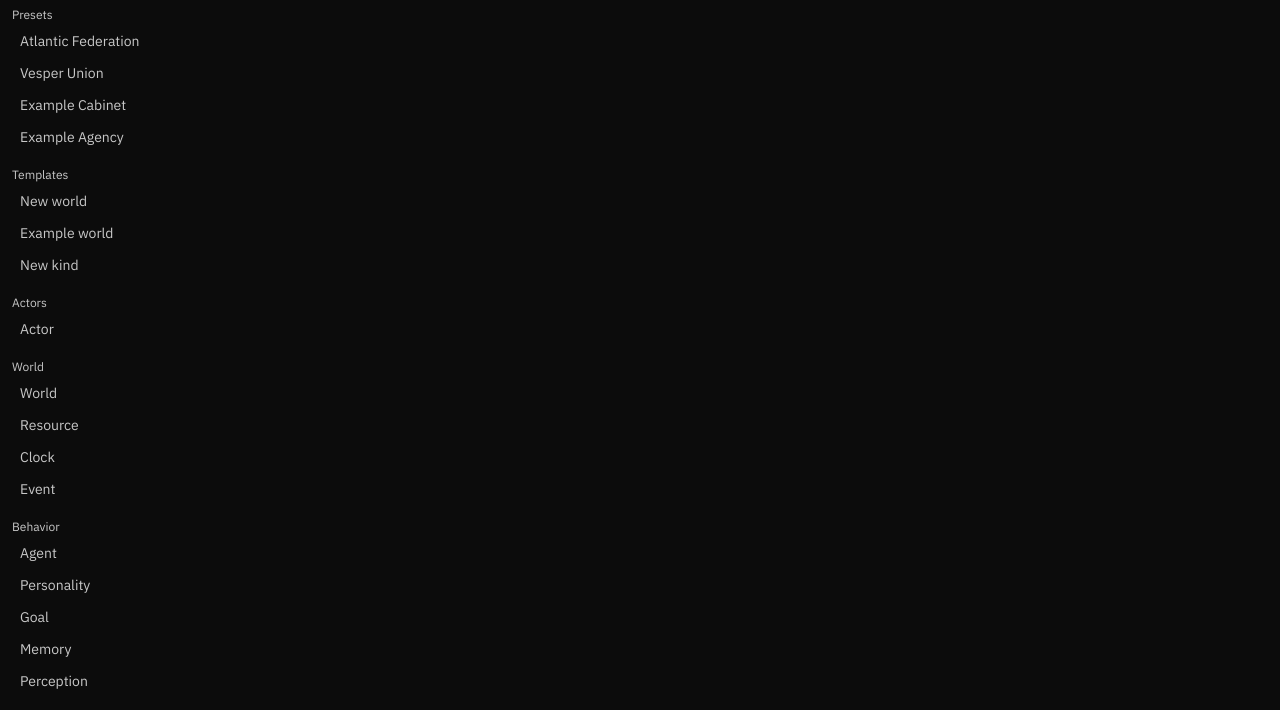
Test: Kind author form › lists custom.radio-desk under Systems after save
Click the button "New kind" at (49,265), box [12,251,1268,279]
(page scrolled)
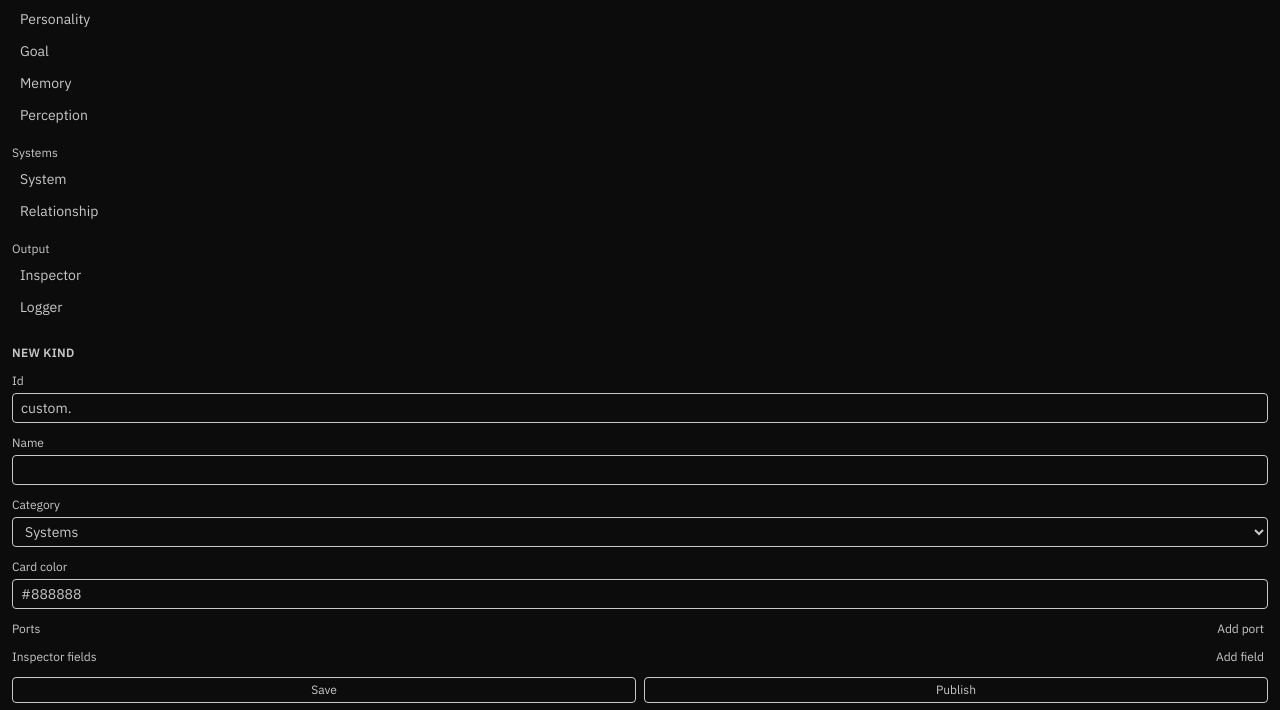
Replace the text in the field labelled "Id" with "custom.radio-desk" at (640,408), box [12,393,1268,423]
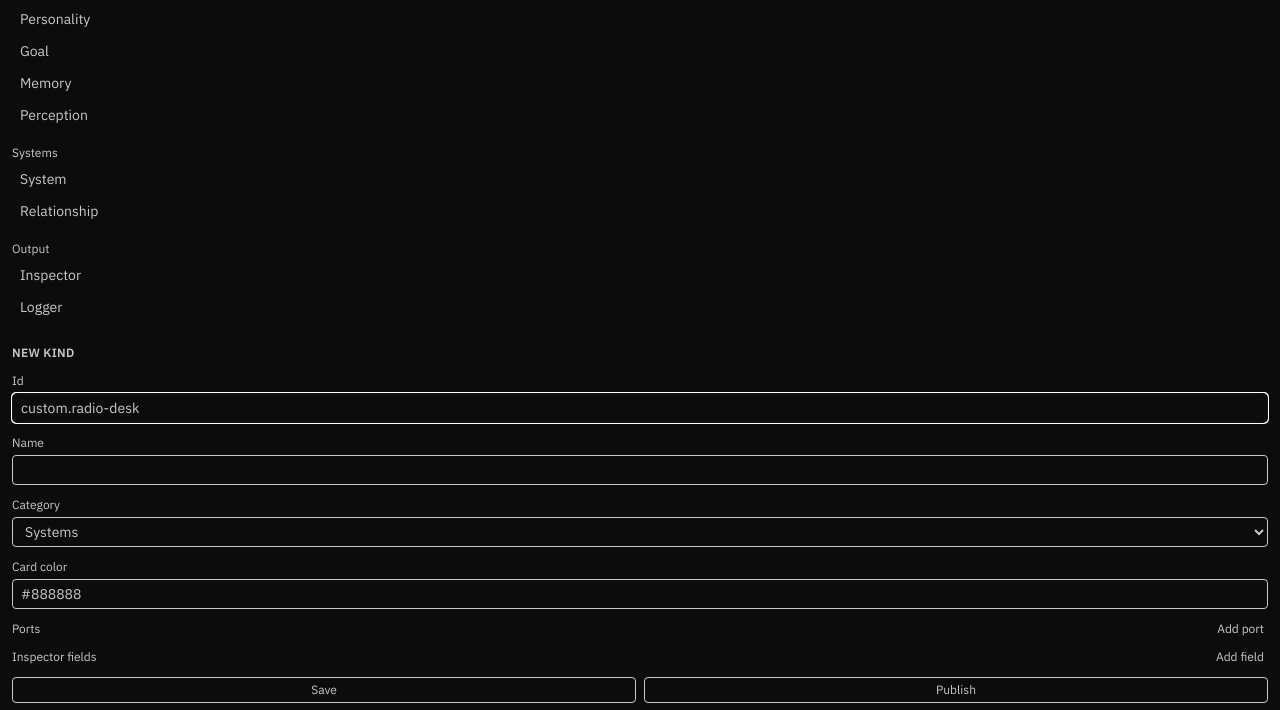
Type "Radio desk" into the field labelled "Name" at (640,470), box [12,455,1268,485]
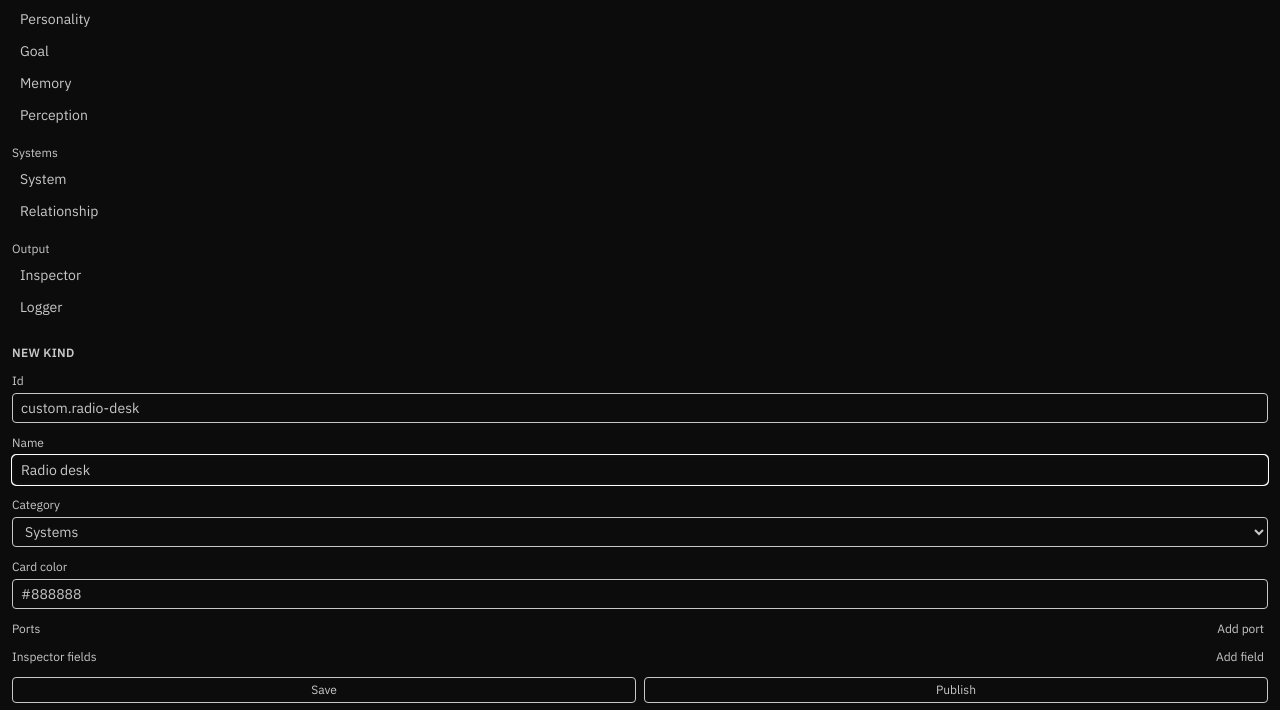
Select "Systems" in the dropdown labelled "Category" at (640,532), box [12,517,1268,547]
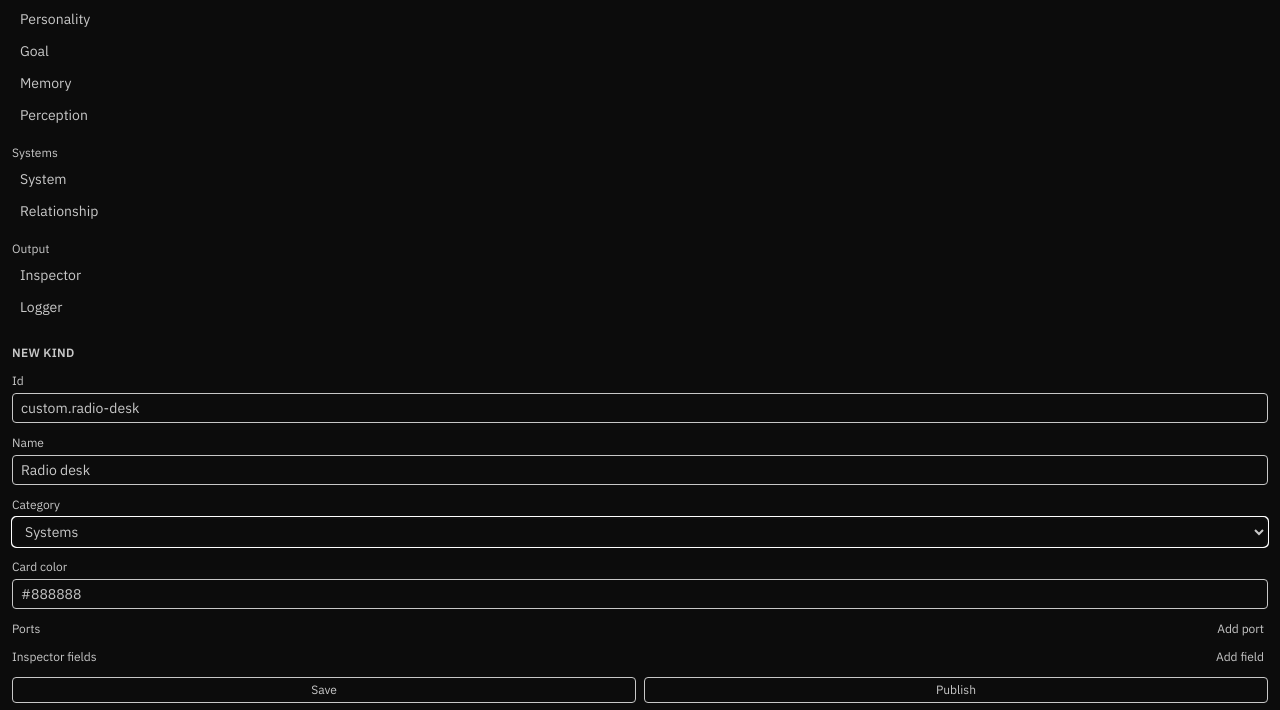
Click the button "Save" at (324,690), box [12,677,636,703]
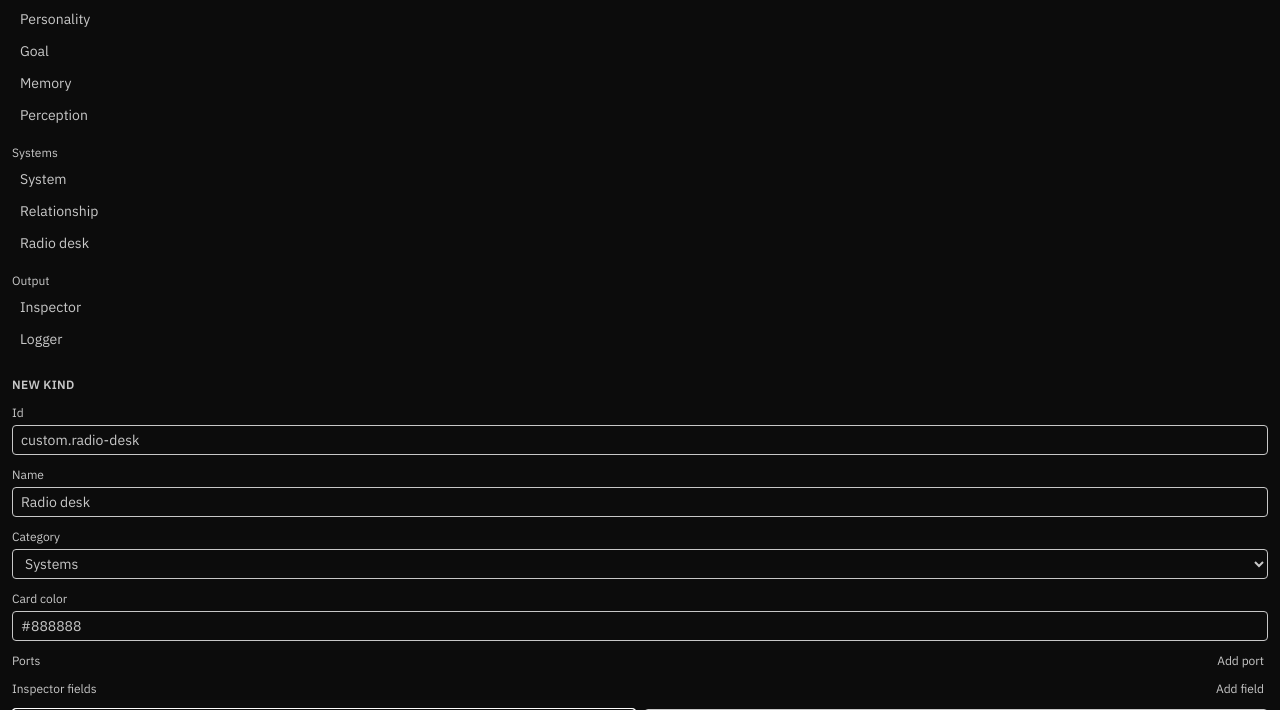
Check: the element "Systems" is shown, box [12,145,1268,257]
Check: the button "Radio desk" is shown, box [12,229,1268,257]
